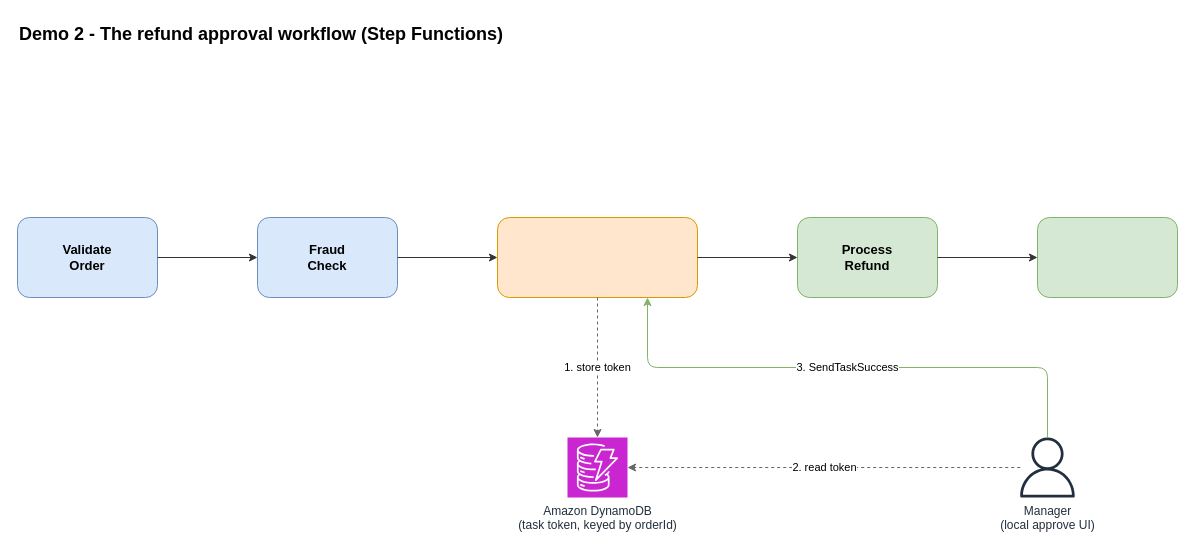
Image size: 1195x550. Some labels were removed from this diagram. The box of each missing label's shape, as (x1, y1, x2, y2) in pixels:
Manager Approval (waitForTaskToken - PAUSES): (496, 216, 698, 298)
REFUNDED: (1036, 216, 1178, 298)
